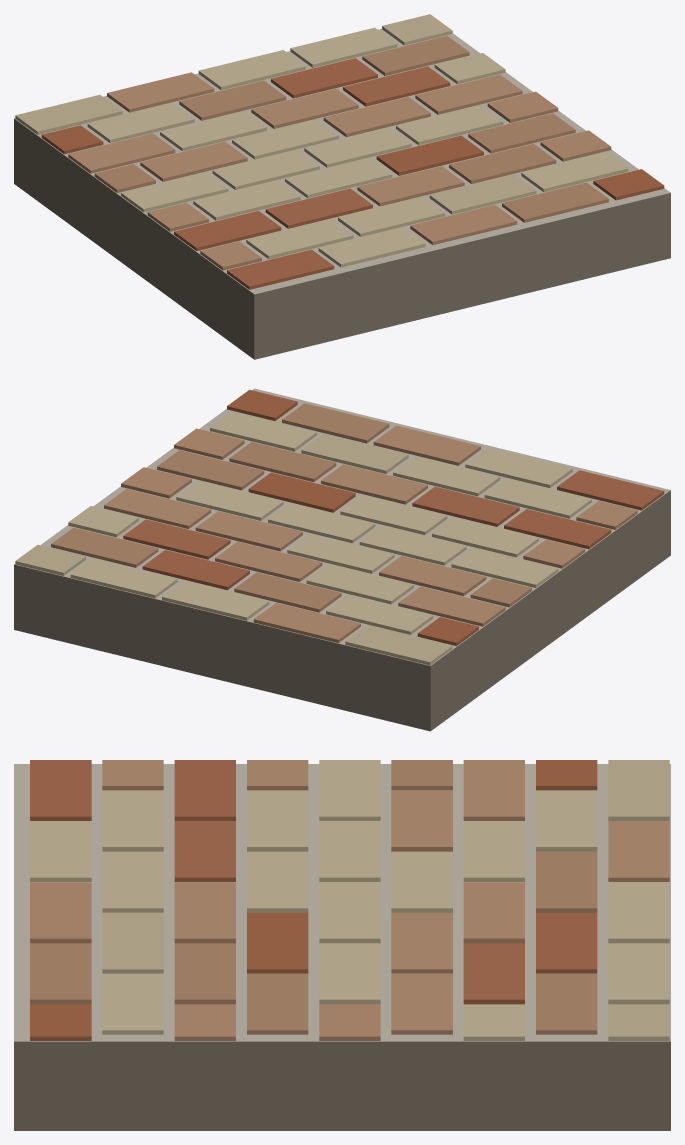
File: t_square_b.glb
The picture shows the model from 3 angles, top to bottom: view 1: azimuth 30°, elevation 25°; view 2: azimuth 150°, elevation 25°; view 3: azimuth 270°, elevation 25°; orthographic projection. The views are drawn at different scales.
Parts seen in each view (by area): view 1: t_square_b; view 2: t_square_b; view 3: t_square_b.
Boxes of the visible parts, x1,y1,x2,y2 form: t_square_b: [14, 14, 670, 359]; t_square_b: [14, 388, 670, 731]; t_square_b: [14, 760, 670, 1130].
Size of the model in its own units: 2 by 0.315 by 2.
